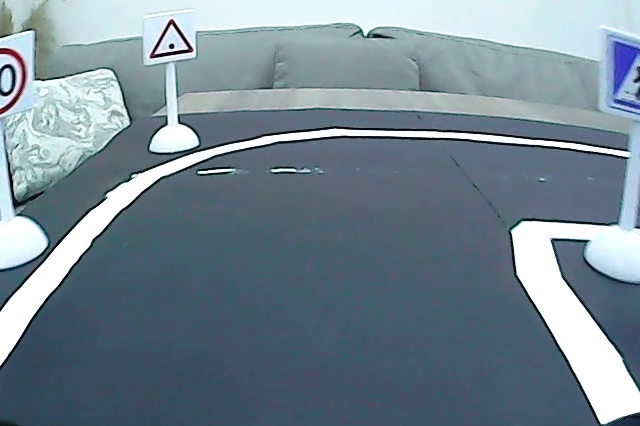green light: (146, 15, 196, 60)
